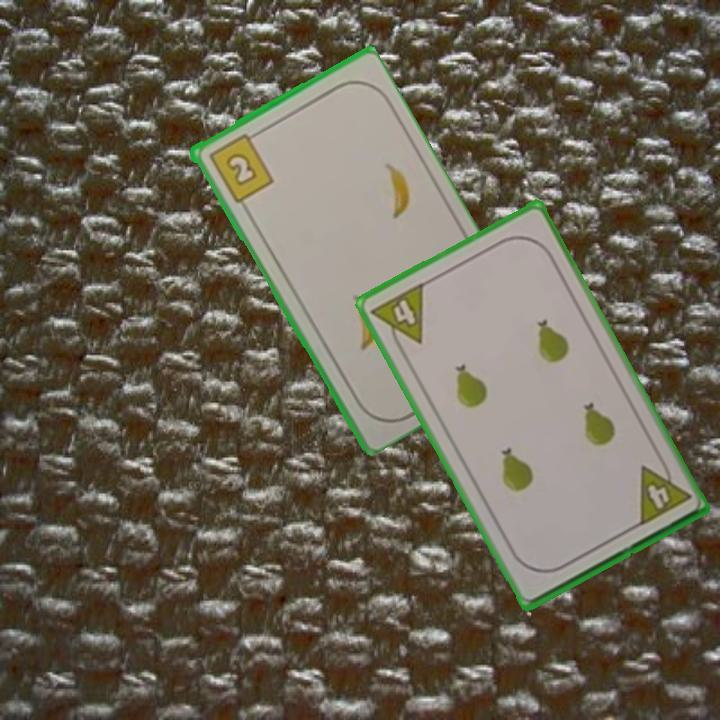2b: (204, 128, 276, 206)
4p: (367, 279, 427, 356), (634, 454, 694, 529)
